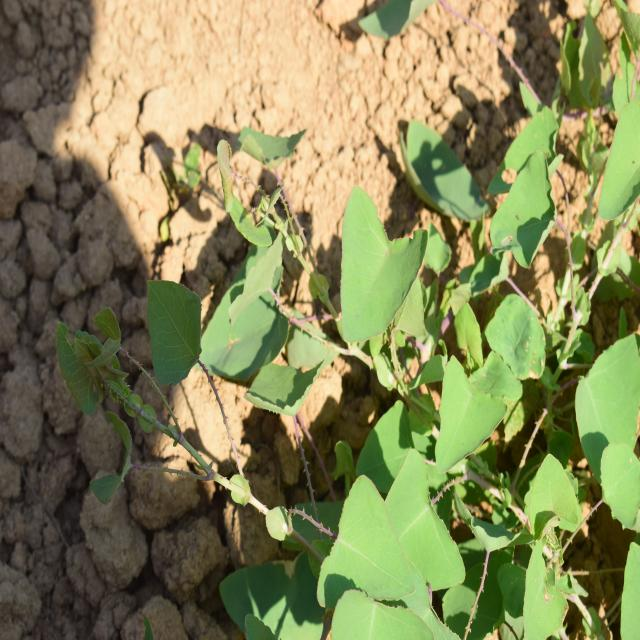Asiatic_Smartweed: (328, 204, 540, 460), (141, 242, 342, 442), (311, 448, 489, 638)
